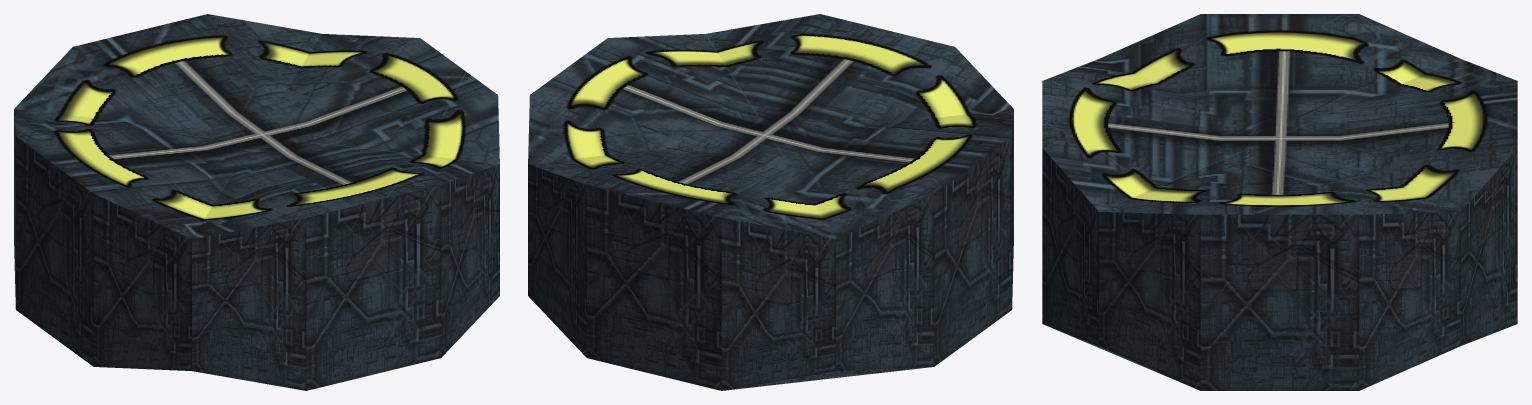
The model's file is bossModel3Rot.fbx.
The picture shows the model from 3 angles, left to right: view 1: azimuth 30°, elevation 25°; view 2: azimuth 150°, elevation 25°; view 3: azimuth 270°, elevation 25°; orthographic projection.
Visible parts, largest first — view 1: Cube.001; view 2: Cube.001; view 3: Cube.001.
Boxes of the visible parts, <box> form: Cube.001: <box>14,14,499,390</box>; Cube.001: <box>528,14,1013,390</box>; Cube.001: <box>1042,14,1517,390</box>.
Bounding box in the file's own units: 274 × 112 × 274.
1 material, 1 textured.
